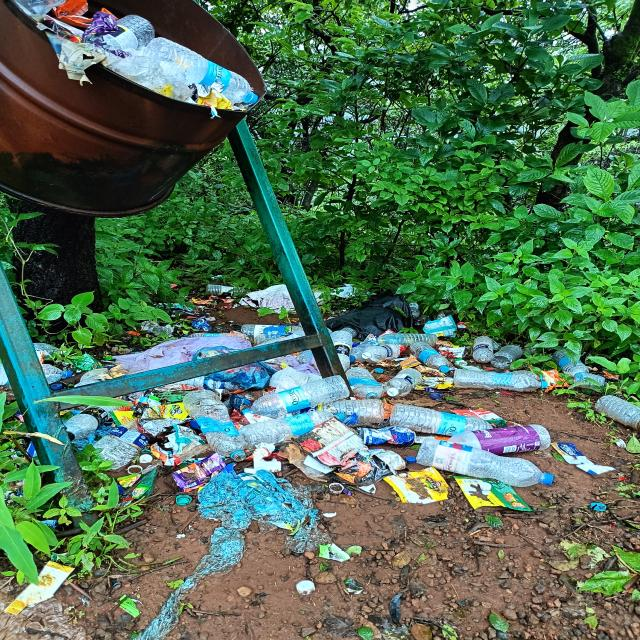garbage: (17, 306, 575, 492), (11, 0, 278, 121)
